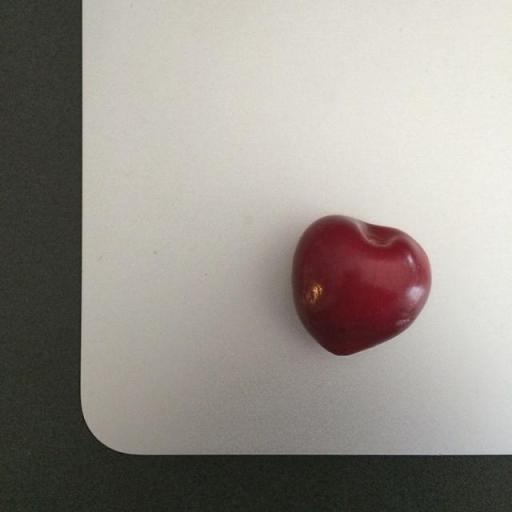fruit: (375, 140, 477, 466)
